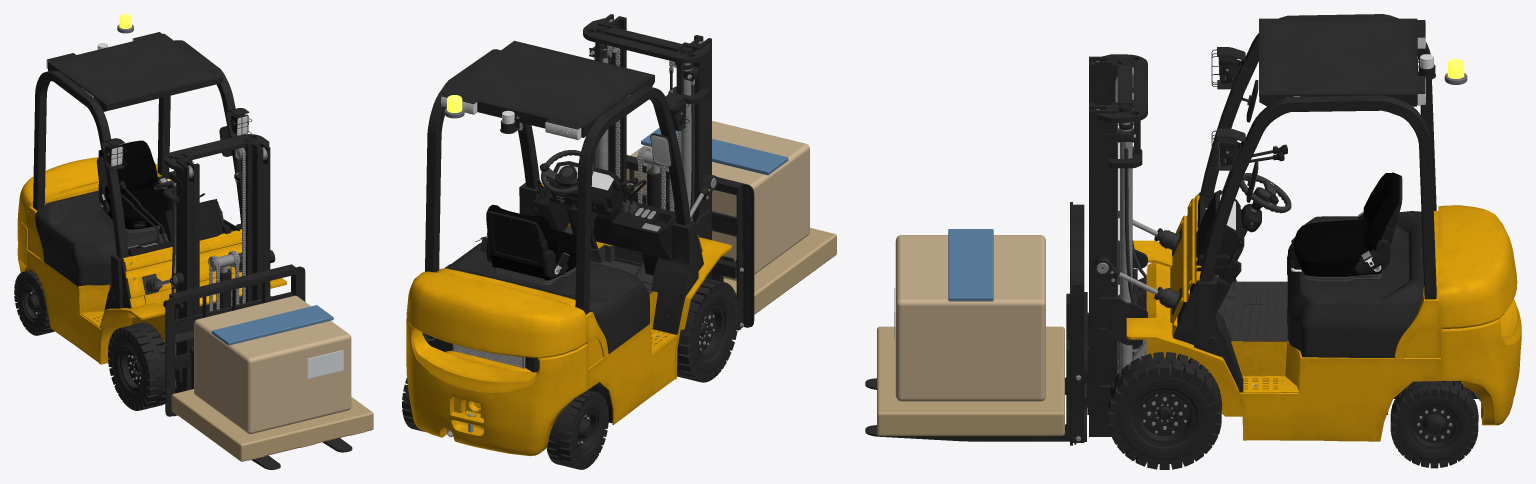
File: forklift.glb
The picture shows the model from 3 angles, left to right: view 1: azimuth 30°, elevation 25°; view 2: azimuth 150°, elevation 25°; view 3: azimuth 270°, elevation 25°; orthographic projection. The views are drawn at different scales.
Parts seen in each view (by area): view 1: body, payload, pallet, fork; view 2: body, payload, fork, pallet; view 3: body, payload, pallet, fork.
Boxes of the visible parts, x1,y1,x2,y2 form: body: (14, 32, 286, 410); payload: (194, 295, 351, 434); pallet: (171, 389, 373, 461); fork: (165, 264, 352, 469); body: (402, 14, 738, 469); payload: (626, 121, 809, 281); fork: (626, 155, 754, 330); pallet: (723, 228, 836, 314); body: (1087, 14, 1521, 469); payload: (894, 229, 1045, 401); pallet: (877, 326, 1064, 435); fork: (865, 202, 1087, 445).
Bounding box in the file's own units: 1.21 × 2.26 × 3.49.
7 materials, 1 textured.
